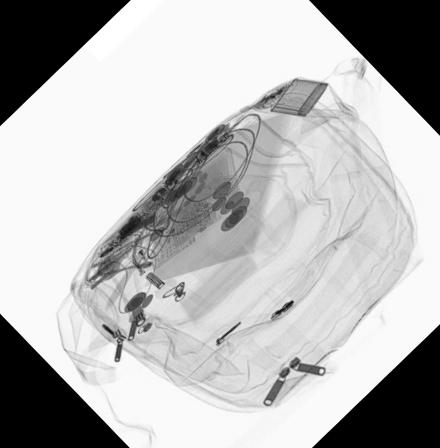Lighter: (126, 244, 158, 291)
